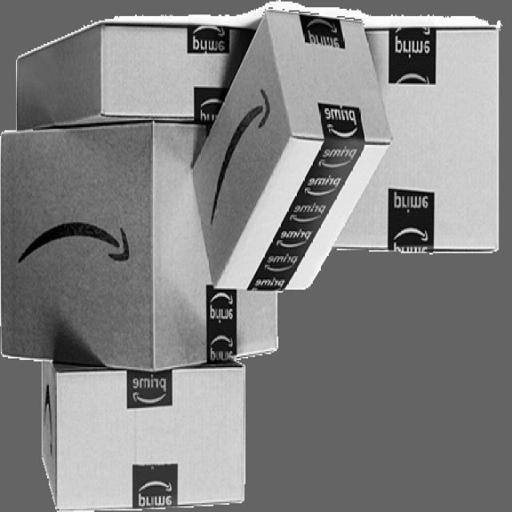Amazon: (1, 130, 285, 360), (192, 12, 396, 297), (336, 20, 497, 251), (30, 360, 249, 512), (11, 15, 262, 128)
